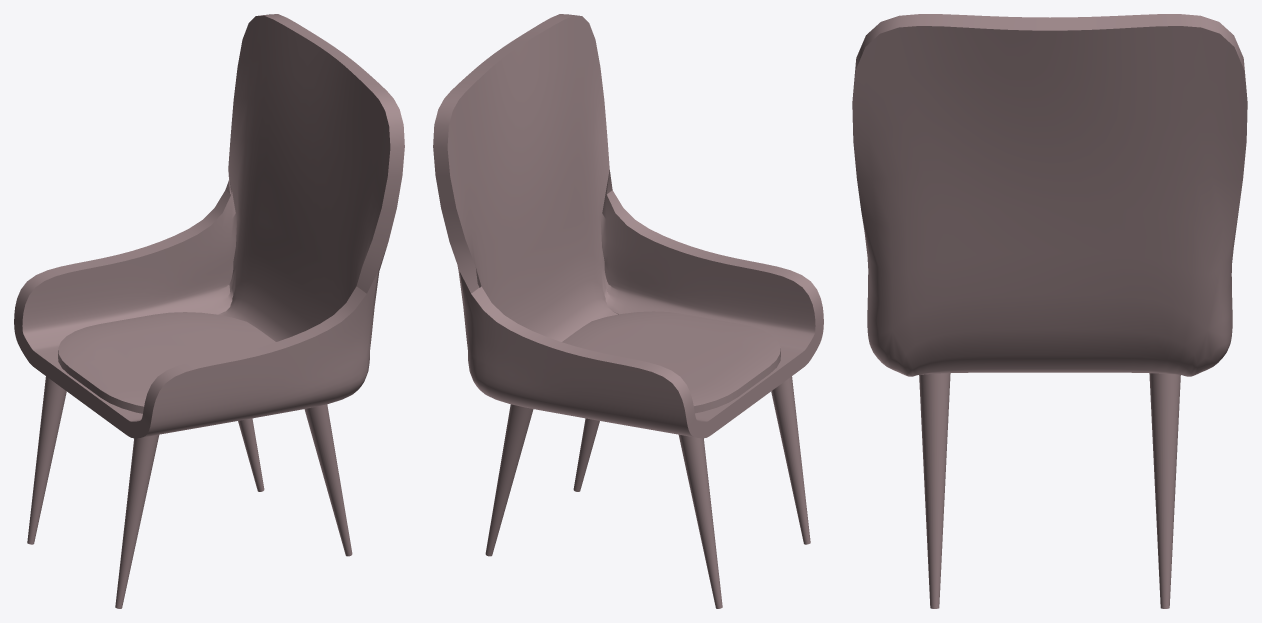
File: Chair_Updated.fbx
The picture shows the model from 3 angles, left to right: view 1: azimuth 30°, elevation 25°; view 2: azimuth 150°, elevation 25°; view 3: azimuth 270°, elevation 25°; orthographic projection. The views are drawn at different scales.
Visible parts, largest first — view 1: Cylinder.041; view 2: Cylinder.041; view 3: Cylinder.041.
Boxes of the visible parts, x1,y1,x2,y2 form: Cylinder.041: [14, 14, 404, 608]; Cylinder.041: [433, 14, 823, 608]; Cylinder.041: [852, 14, 1247, 608].
Bounding box in the file's own units: 252 × 411 × 243.
